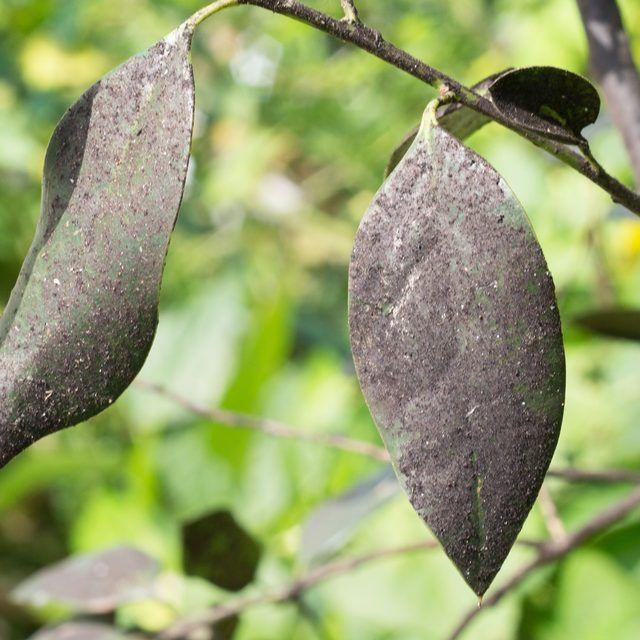soot dew: (349, 110, 564, 595), (0, 23, 194, 467), (489, 66, 599, 143)
